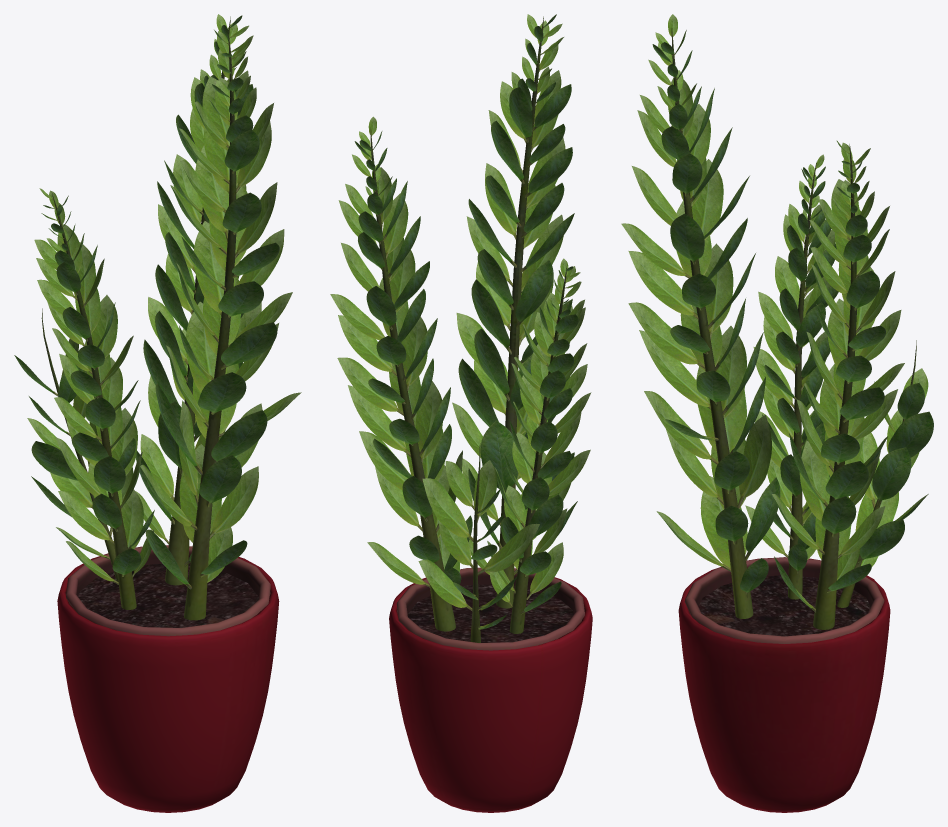
The model's file is Indoor Plant.fbx.
3 renders of one model, left to right at view 1: azimuth 30°, elevation 25°; view 2: azimuth 150°, elevation 25°; view 3: azimuth 270°, elevation 25°, orthographic. The views are drawn at different scales.
Parts seen in each view (by area): view 1: Circle; view 2: Circle; view 3: Circle.
Part boxes in pixels (x1=…): Circle: x1=14, y1=14, x2=301, y2=812; Circle: x1=330, y1=14, x2=592, y2=812; Circle: x1=621, y1=14, x2=933, y2=812.
Size of the model in its own units: 237 by 760 by 280.
Materials: 6 (5 with a texture image).
